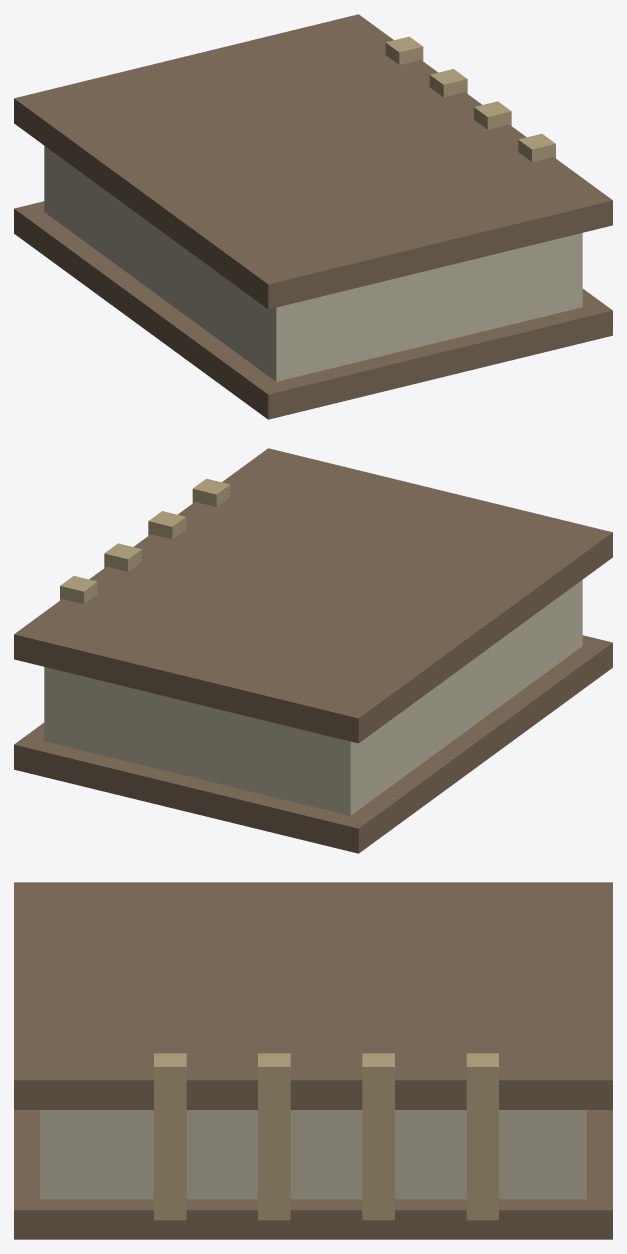
The model's file is spread-portable-detectivenotebook.fbx.
3 renders of one model, top to bottom at view 1: azimuth 30°, elevation 25°; view 2: azimuth 150°, elevation 25°; view 3: azimuth 270°, elevation 25°, orthographic. The views are drawn at different scales.
Visible parts, largest first — view 1: spread-portable-detectivenotebook__Geometry; view 2: spread-portable-detectivenotebook__Geometry; view 3: spread-portable-detectivenotebook__Geometry.
Part boxes in pixels (x1=…): spread-portable-detectivenotebook__Geometry: x1=14, y1=14, x2=612, y2=419; spread-portable-detectivenotebook__Geometry: x1=14, y1=448, x2=612, y2=853; spread-portable-detectivenotebook__Geometry: x1=14, y1=882, x2=612, y2=1239.
Bounding box in the file's own units: 0.3625 × 0.1475 × 0.46.
